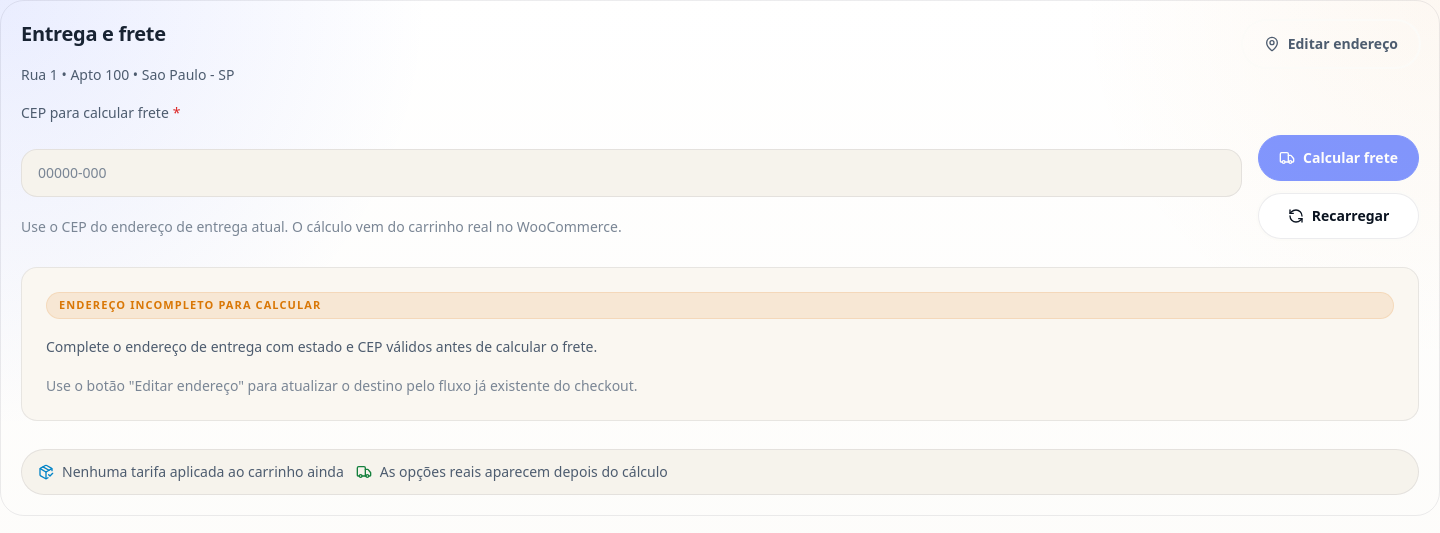
CheckoutShippingSection › shows an empty state when the backend returns no shipping methods
Type "01000-000" into the field labelled "CEP para calcular frete*" at (632, 173), box [21,149,1242,197]
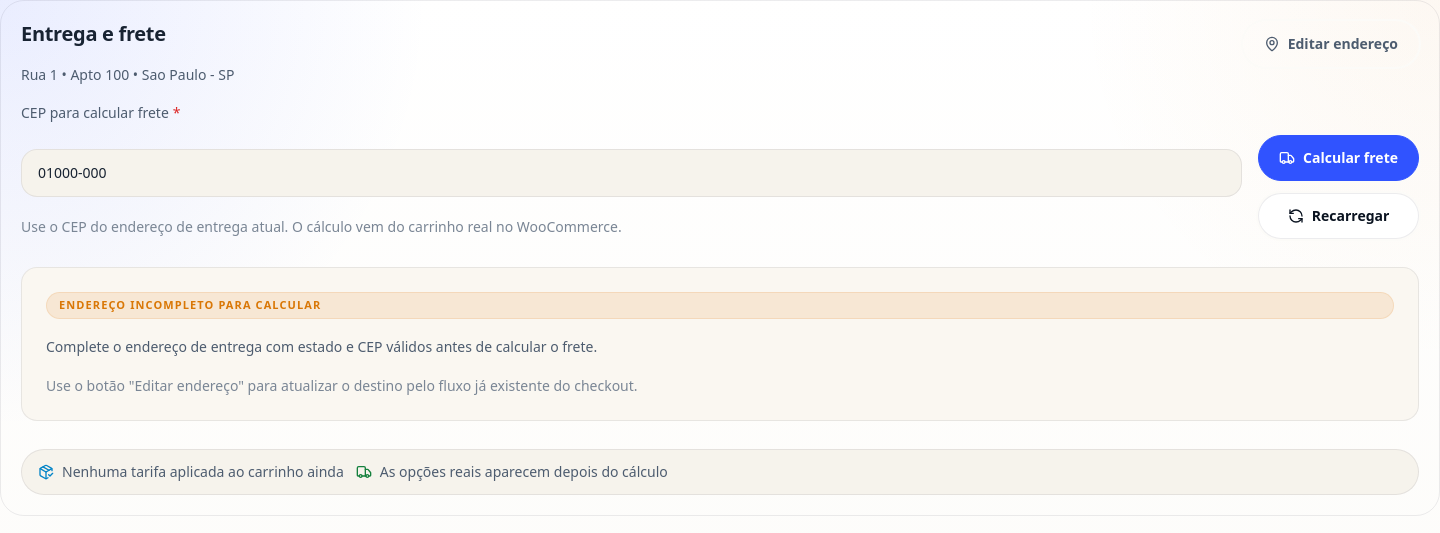
Click the button "Calcular frete" at (1339, 158), box [1258,135,1419,181]
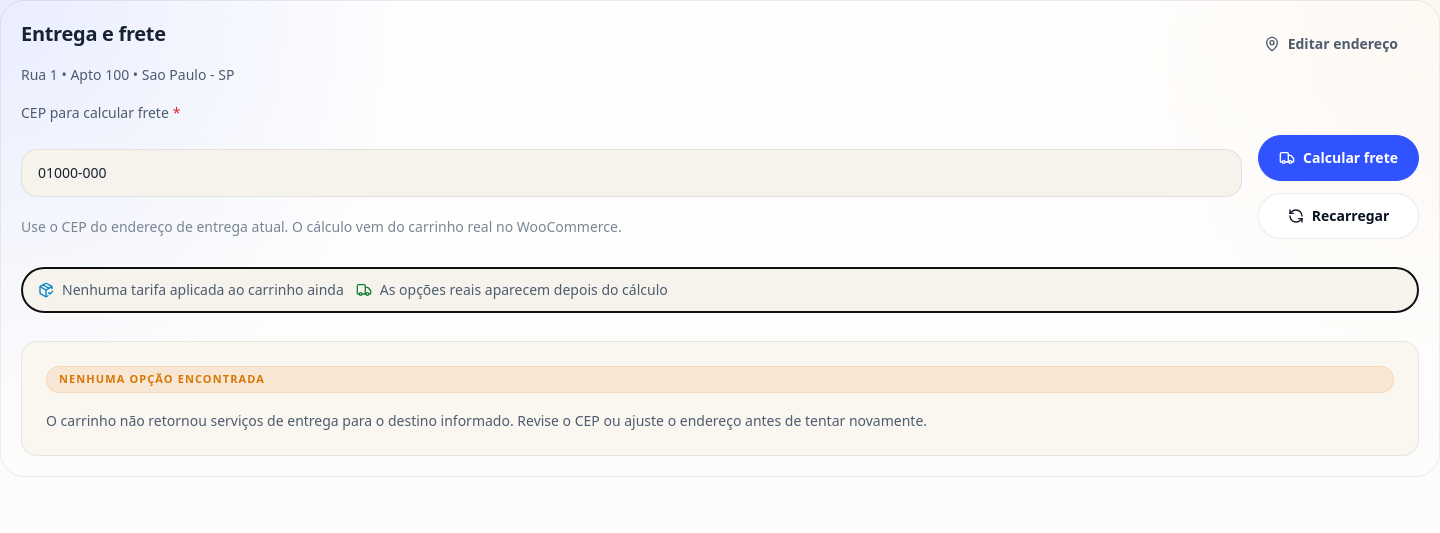
Expected: the text "Nenhuma opção encontrada" is shown, [46,366,1394,392]
